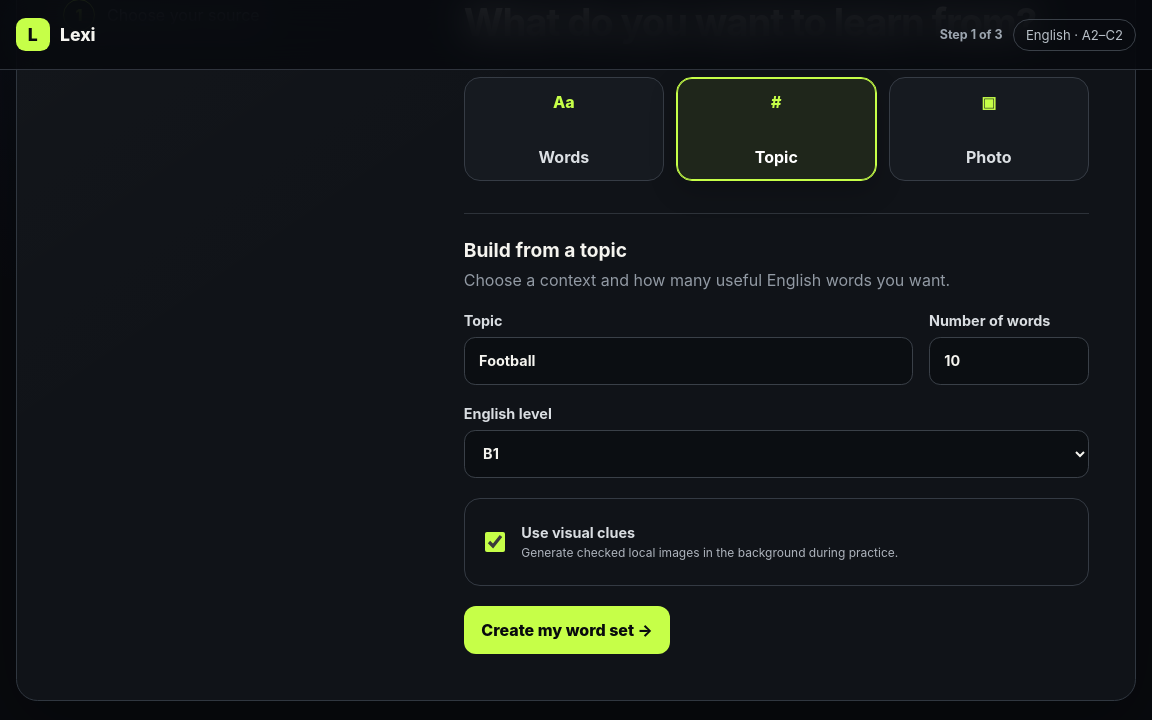
VocabularyPage › shows explicit selectable review before training
(page scrolled)
Replace the text in the number field labelled "Number of words" with "4" at x=1009, y=361, box [929,337,1089,385]
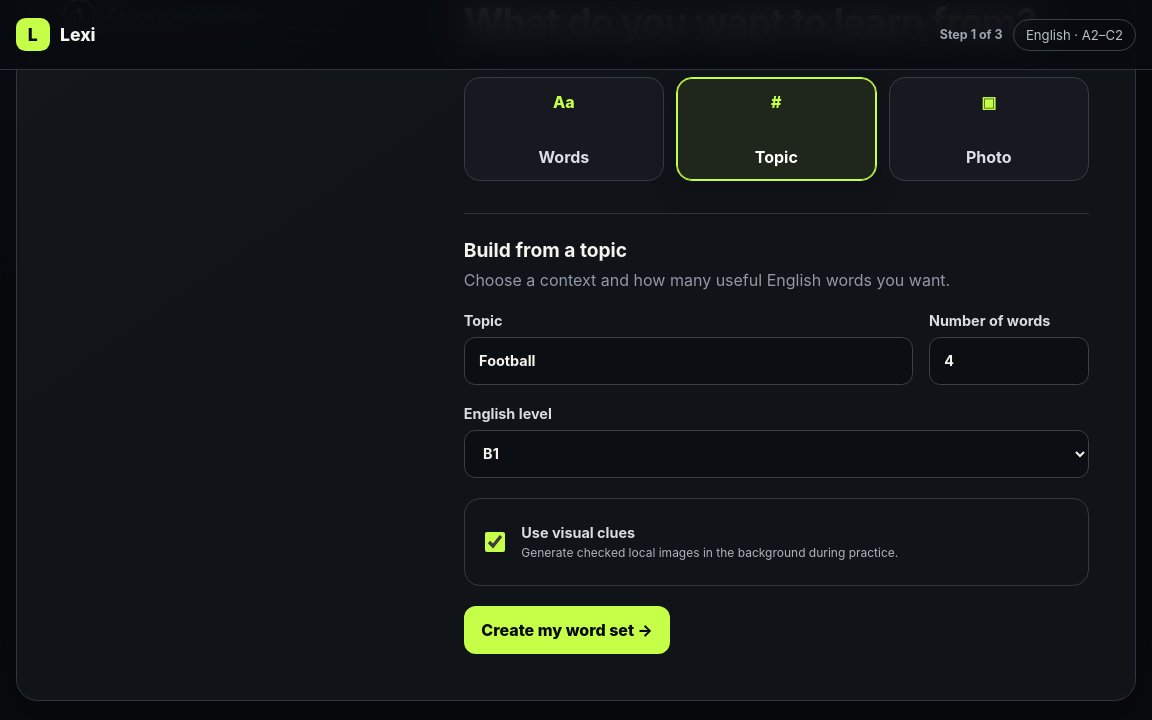
Submit the form named "Create my word set", box [464,213,1089,654]
(page scrolled)
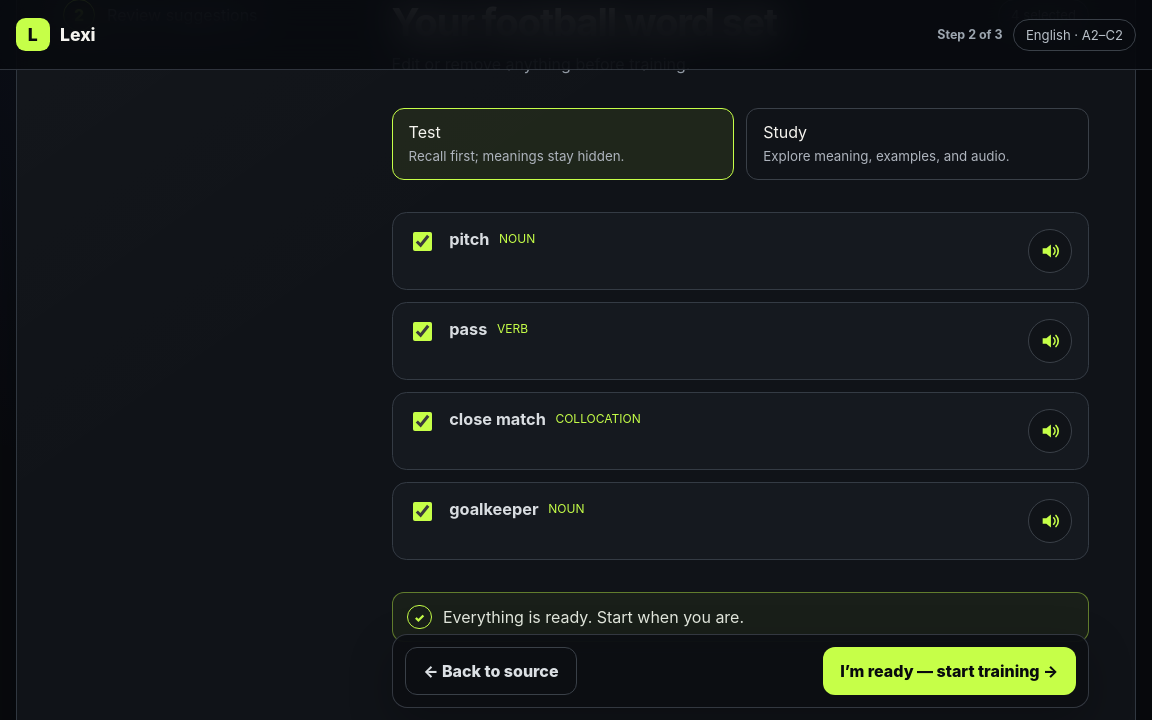
Expected: the message reads "4 selected", [998,0,1089,32]
Expected: the button with aria-label "Study mode" is shown, [746,108,1089,180]
Expected: the button named "Listen to pitch" is shown, [1028,229,1072,273]
